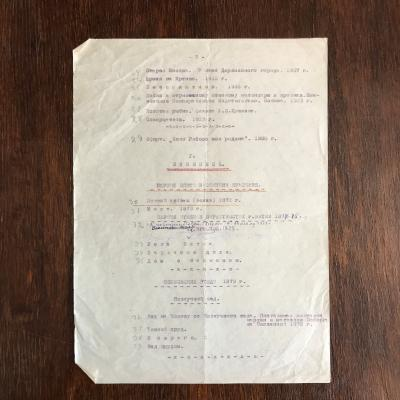document: (73, 37, 328, 384)
